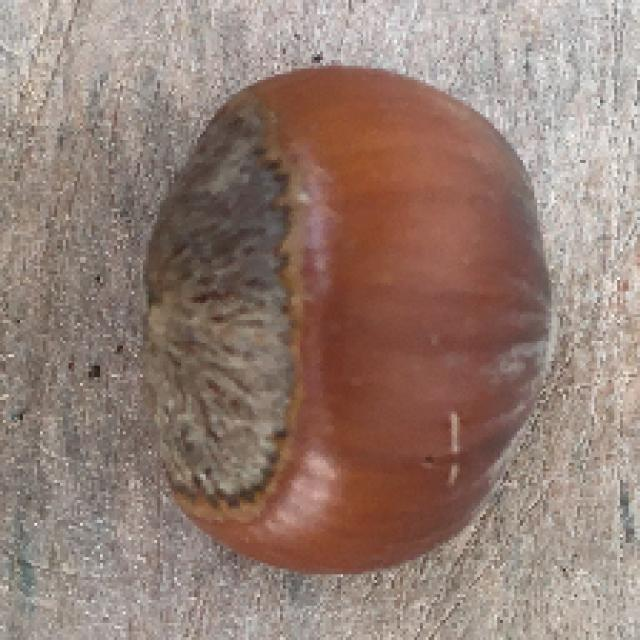qualityHazelnut: (136, 60, 558, 575)
